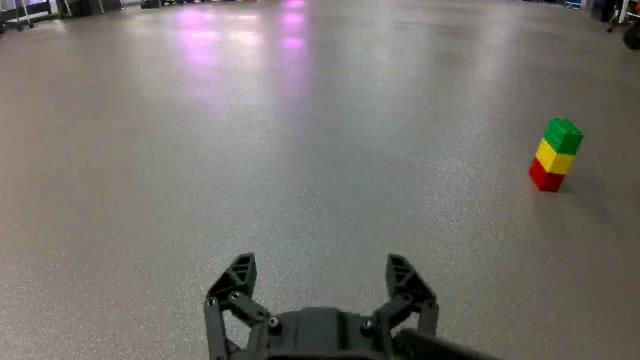lego: (527, 116, 583, 195)
